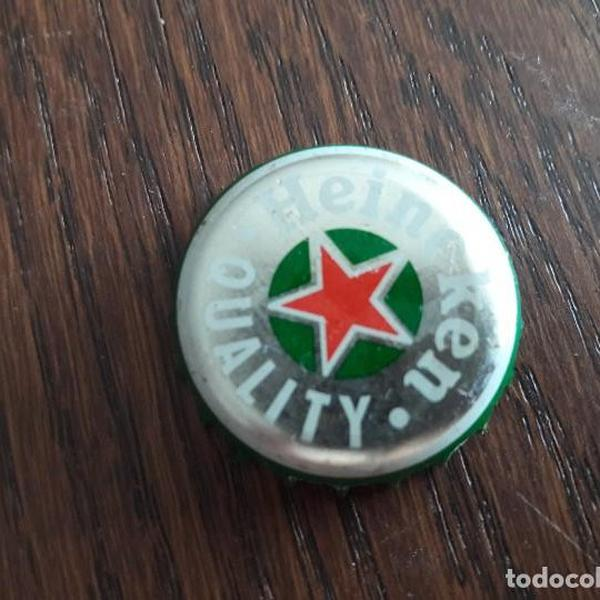heineken: (154, 124, 532, 508)
